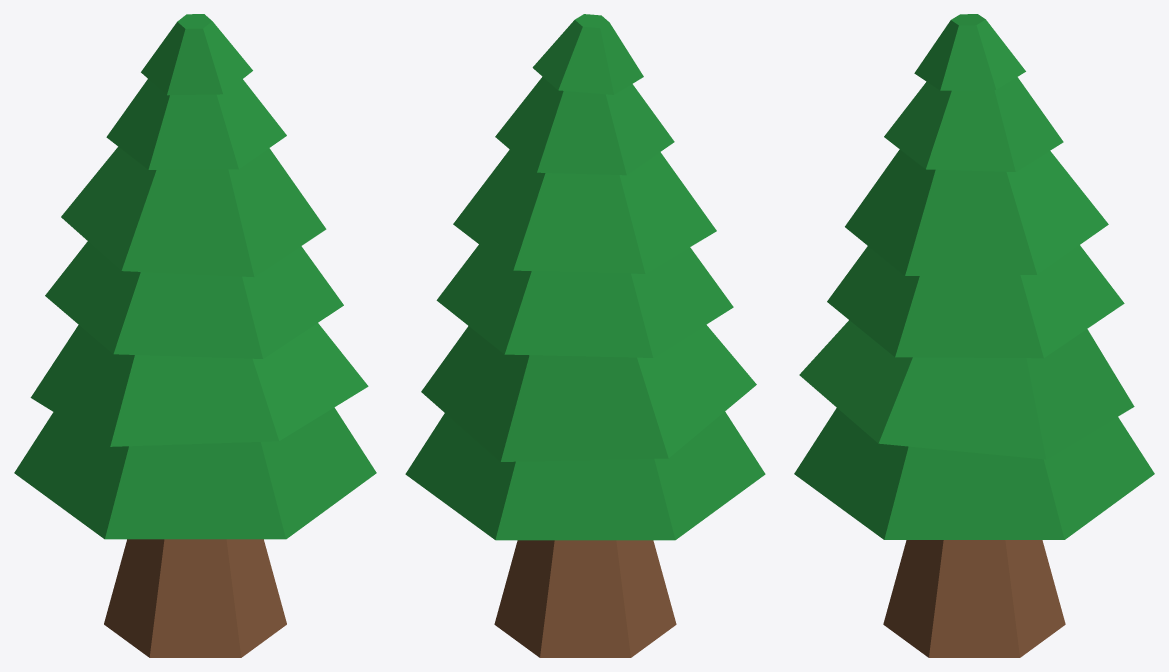
File: ctree.gltf
3 views of the same model, side by side, from view 1: azimuth 30°, elevation 25°; view 2: azimuth 150°, elevation 25°; view 3: azimuth 270°, elevation 25° (orthographic).
Visible parts, largest first — view 1: Cylinder.001, Cylinder.002, Cylinder.004, Cylinder.003, Cylinder, Cylinder.005, Cylinder.006; view 2: Cylinder.002, Cylinder.001, Cylinder.004, Cylinder.003, Cylinder, Cylinder.005, Cylinder.006; view 3: Cylinder.001, Cylinder.002, Cylinder.004, Cylinder.003, Cylinder, Cylinder.005, Cylinder.006.
Boxes of the visible parts, bbox=[...] form: Cylinder.001: bbox=[14, 407, 376, 539]; Cylinder.002: bbox=[30, 323, 368, 446]; Cylinder.004: bbox=[61, 146, 326, 276]; Cylinder.003: bbox=[45, 241, 343, 358]; Cylinder: bbox=[104, 539, 286, 657]; Cylinder.005: bbox=[106, 79, 286, 169]; Cylinder.006: bbox=[141, 14, 252, 95]; Cylinder.002: bbox=[421, 324, 756, 461]; Cylinder.001: bbox=[405, 411, 765, 540]; Cylinder.004: bbox=[453, 149, 716, 273]; Cylinder.003: bbox=[436, 244, 733, 357]; Cylinder: bbox=[494, 540, 676, 657]; Cylinder.005: bbox=[495, 77, 674, 175]; Cylinder.006: bbox=[532, 14, 643, 94]; Cylinder.001: bbox=[794, 408, 1154, 539]; Cylinder.002: bbox=[799, 320, 1134, 459]; Cylinder.004: bbox=[845, 149, 1108, 275]; Cylinder.003: bbox=[827, 245, 1124, 358]; Cylinder: bbox=[883, 540, 1065, 657]; Cylinder.005: bbox=[884, 77, 1063, 171]; Cylinder.006: bbox=[914, 14, 1025, 90].
Size of the model in its own units: 3.43 by 7.31 by 3.96.
